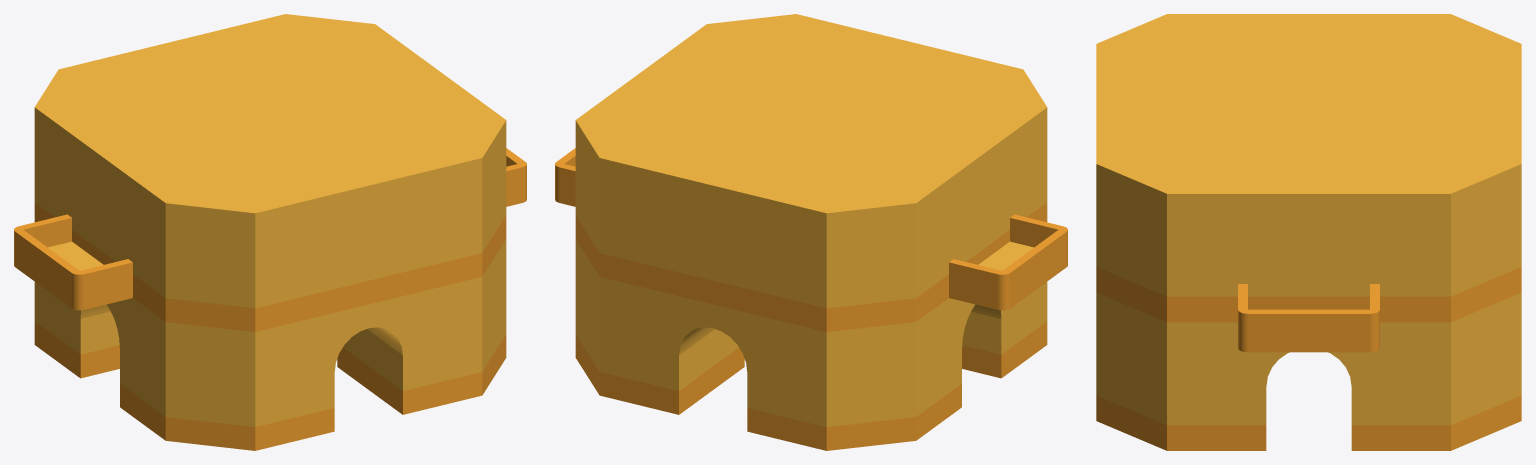
Rendered from m_arches.fbx.
The picture shows the model from 3 angles, left to right: view 1: azimuth 30°, elevation 25°; view 2: azimuth 150°, elevation 25°; view 3: azimuth 270°, elevation 25°; orthographic projection. The views are drawn at different scales.
Visible parts, largest first — view 1: mergedBlocks; view 2: mergedBlocks; view 3: mergedBlocks.
Part boxes in pixels (left/top/right/bottom): mergedBlocks: left=14, top=14, right=526, bottom=450; mergedBlocks: left=555, top=14, right=1067, bottom=450; mergedBlocks: left=1096, top=14, right=1521, bottom=450.
Size of the model in its own units: 40 by 20 by 30.
